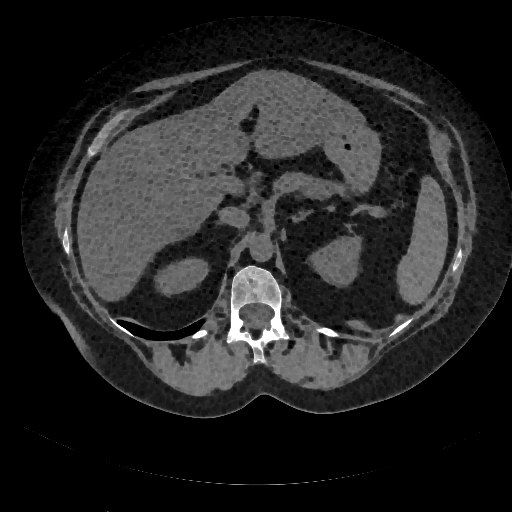Lesion: (339, 256, 363, 280)
